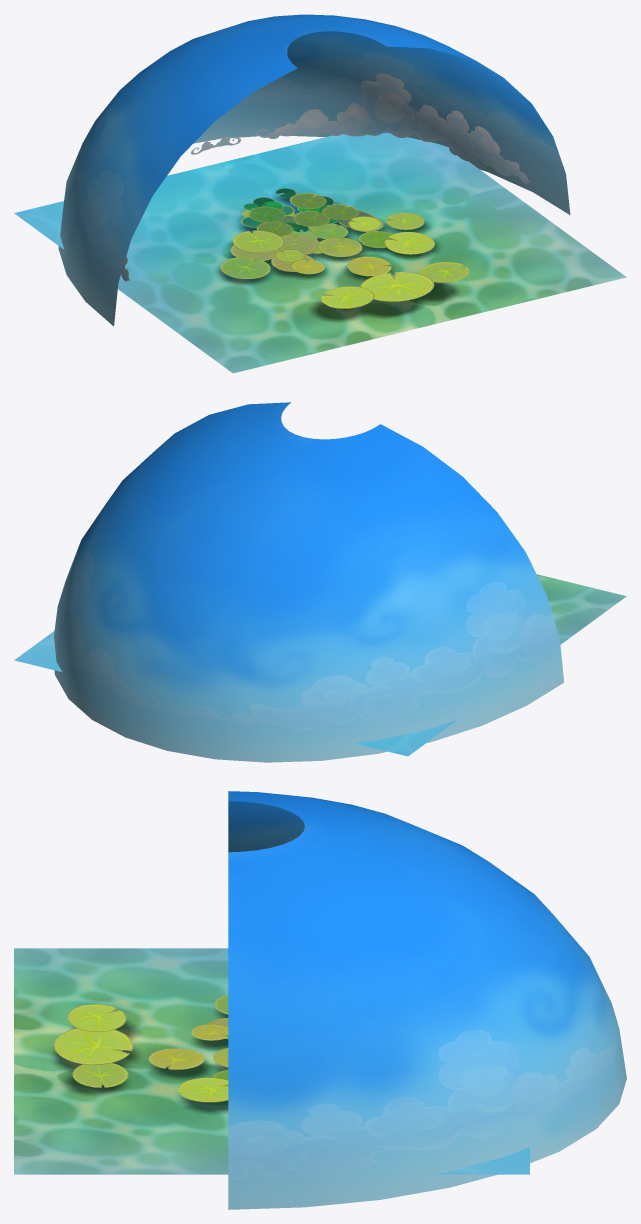
File: yunmengze_tiandi.FBX
3 renders of one model, top to bottom at view 1: azimuth 30°, elevation 25°; view 2: azimuth 150°, elevation 25°; view 3: azimuth 270°, elevation 25°, orthographic. The views are drawn at different scales.
Visible parts, largest first — view 1: Plane014, Sphere004, Plane012, Sphere003, Plane013; view 2: Sphere004, Plane014; view 3: Sphere004, Plane014, Plane013, Plane012.
Boxes of the visible parts, x1,y1,x2,y2 form: Plane014: (14,132,626,373); Sphere004: (58,14,570,326); Plane012: (220,188,434,278); Sphere003: (121,73,530,281); Plane013: (320,262,469,308); Sphere004: (54,402,564,762); Plane014: (14,574,626,756); Sphere004: (228,791,626,1209); Plane014: (14,948,529,1174); Plane013: (54,1004,133,1087); Plane012: (148,994,228,1102).
Size of the model in its own units: 693 by 324 by 684.
